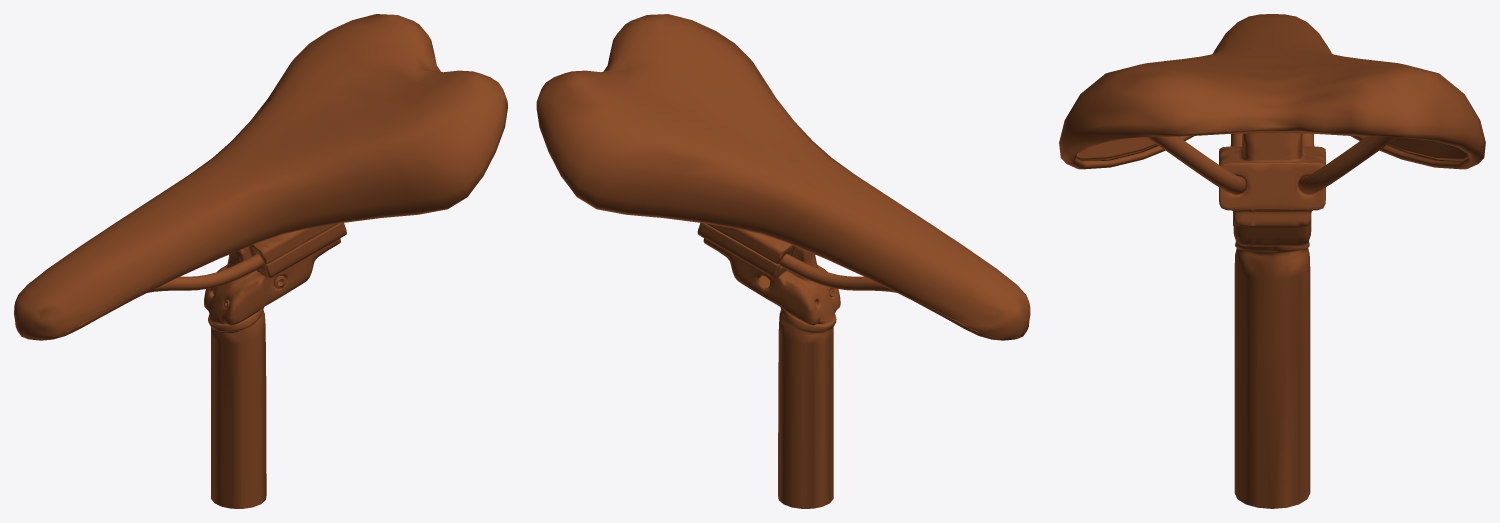
The model's file is saddleBrown.gltf.
3 views of the same model, side by side, from view 1: azimuth 30°, elevation 25°; view 2: azimuth 150°, elevation 25°; view 3: azimuth 270°, elevation 25° (orthographic). The views are drawn at different scales.
Visible parts, largest first — view 1: SEATPOST; view 2: SEATPOST; view 3: SEATPOST.
Part boxes in pixels (x1,y1,x2,y2): SEATPOST: [14, 14, 507, 508]; SEATPOST: [536, 14, 1030, 508]; SEATPOST: [1059, 14, 1485, 508].
Bounding box in the file's own units: 0.6298 × 0.5436 × 0.3882.
